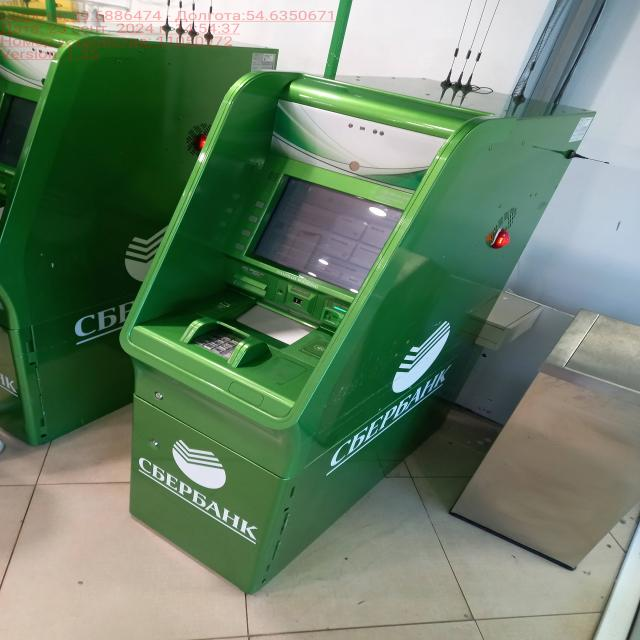bank: (119, 72, 602, 597), (0, 15, 278, 444)
